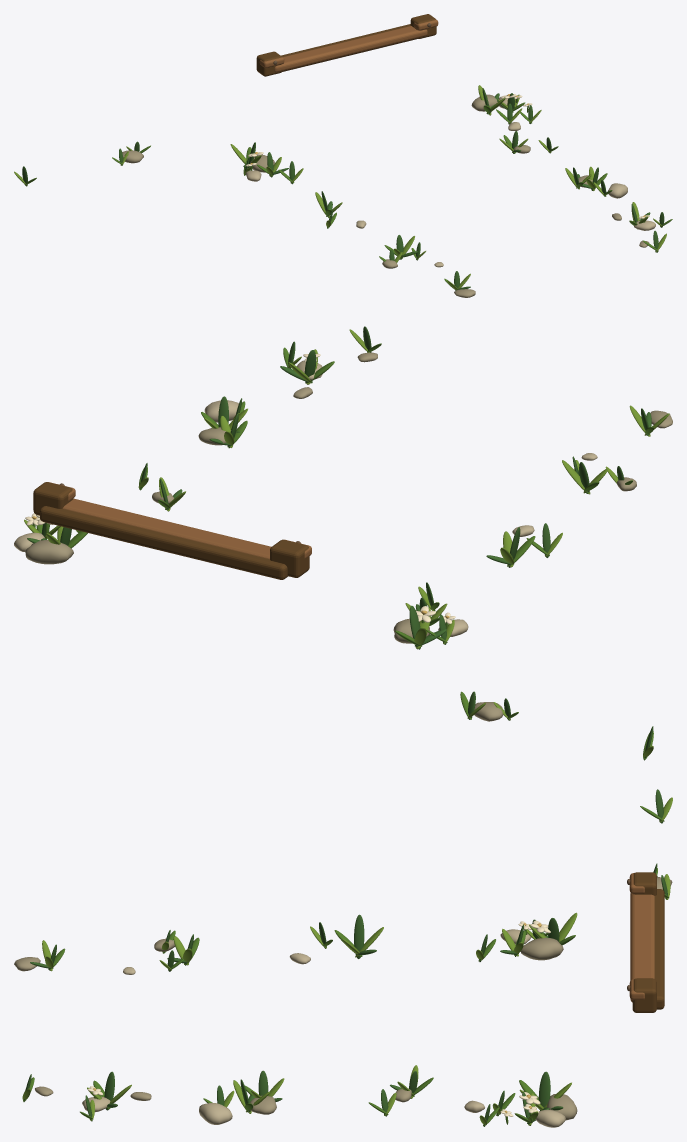
Rendered from observatory-porch.glb.
3 views of the same model, one above another, from view 1: azimuth 30°, elevation 25°; view 2: azimuth 150°, elevation 25°; view 3: azimuth 270°, elevation 25° (orthographic). The views are drawn at different scales.
Parts seen in each view (by area): view 1: Porch_trim, Porch_grass_deep, Porch_grass, Porch_stone, Porch_trim_dark, Porch_moss, Porch_stone_pale; view 2: Porch_trim_dark, Porch_grass_deep, Porch_grass, Porch_stone, Porch_trim, Porch_moss, Porch_stone_pale; view 3: Porch_grass_deep, Porch_grass, Porch_stone, Porch_trim, Porch_trim_dark, Porch_stone_pale, Porch_moss, Porch_cream.
Boxes of the visible parts, box(x1,y1,x2,y2) form: Porch_trim: box(259, 19, 438, 72); Porch_grass_deep: box(22, 88, 664, 290); Porch_grass: box(14, 85, 666, 290); Porch_stone: box(122, 94, 649, 297); Porch_trim_dark: box(256, 14, 436, 76); Porch_moss: box(24, 98, 672, 290); Porch_stone_pale: box(246, 97, 655, 267); Porch_trim_dark: box(33, 482, 309, 579); Porch_grass_deep: box(27, 326, 653, 760); Porch_grass: box(24, 329, 669, 757); Porch_stone: box(25, 352, 672, 721); Porch_trim: box(48, 482, 311, 559); Porch_moss: box(32, 343, 653, 759); Porch_stone_pale: box(14, 360, 597, 636); Porch_grass_deep: box(24, 789, 667, 1126); Porch_grass: box(22, 797, 672, 1125); Porch_stone: box(14, 877, 672, 1120); Porch_trim: box(629, 873, 654, 1002); Porch_trim_dark: box(632, 872, 664, 1012); Porch_stone_pale: box(82, 929, 565, 1127); Porch_moss: box(23, 806, 668, 1126); Porch_cream: box(87, 920, 550, 1116).
Bounding box in the file's own units: 5.53 × 0.899 × 4.85.
